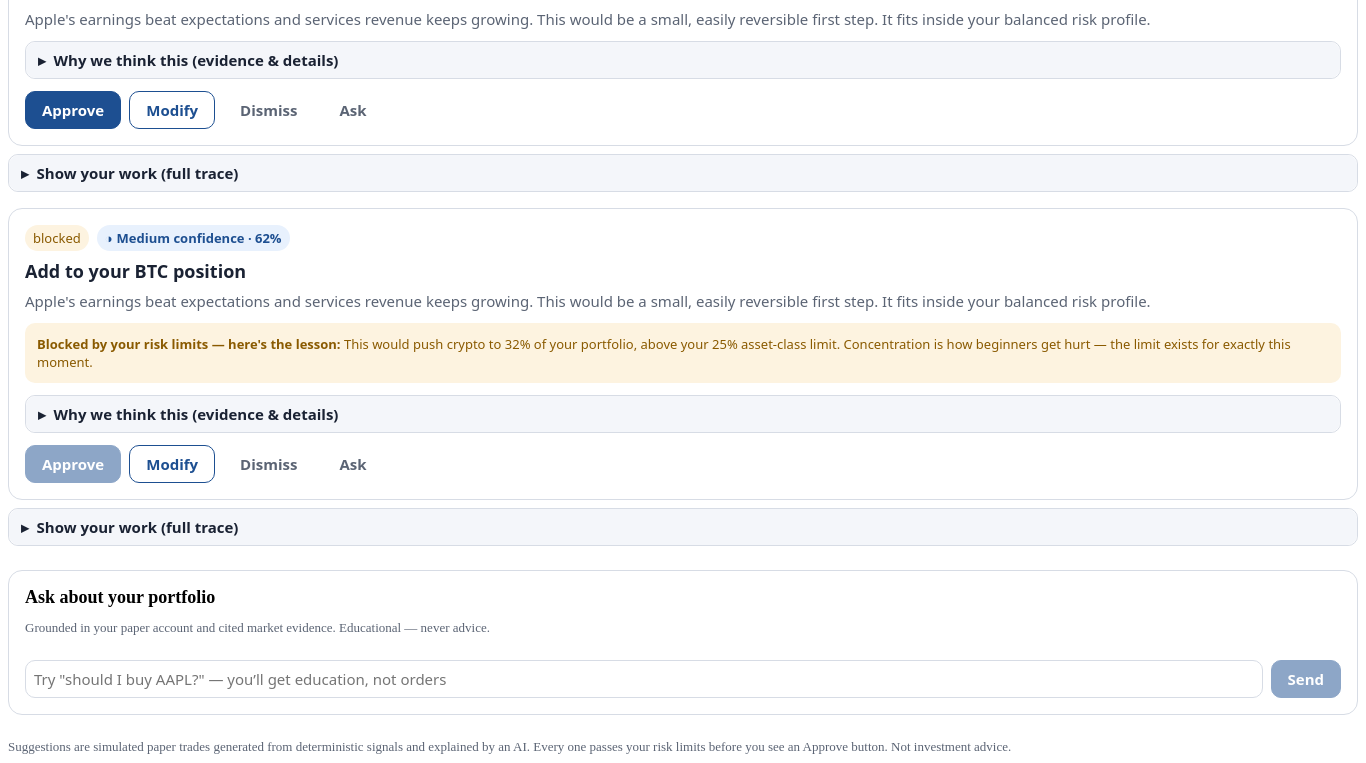
chat streams tokens and shows sources
This screenshot has width=1366, height=763.
(page scrolled)
Type "should I buy AAPL?" into the field named "Chat message" at (644, 679), box x1=25 y1=660 x2=1262 y2=698
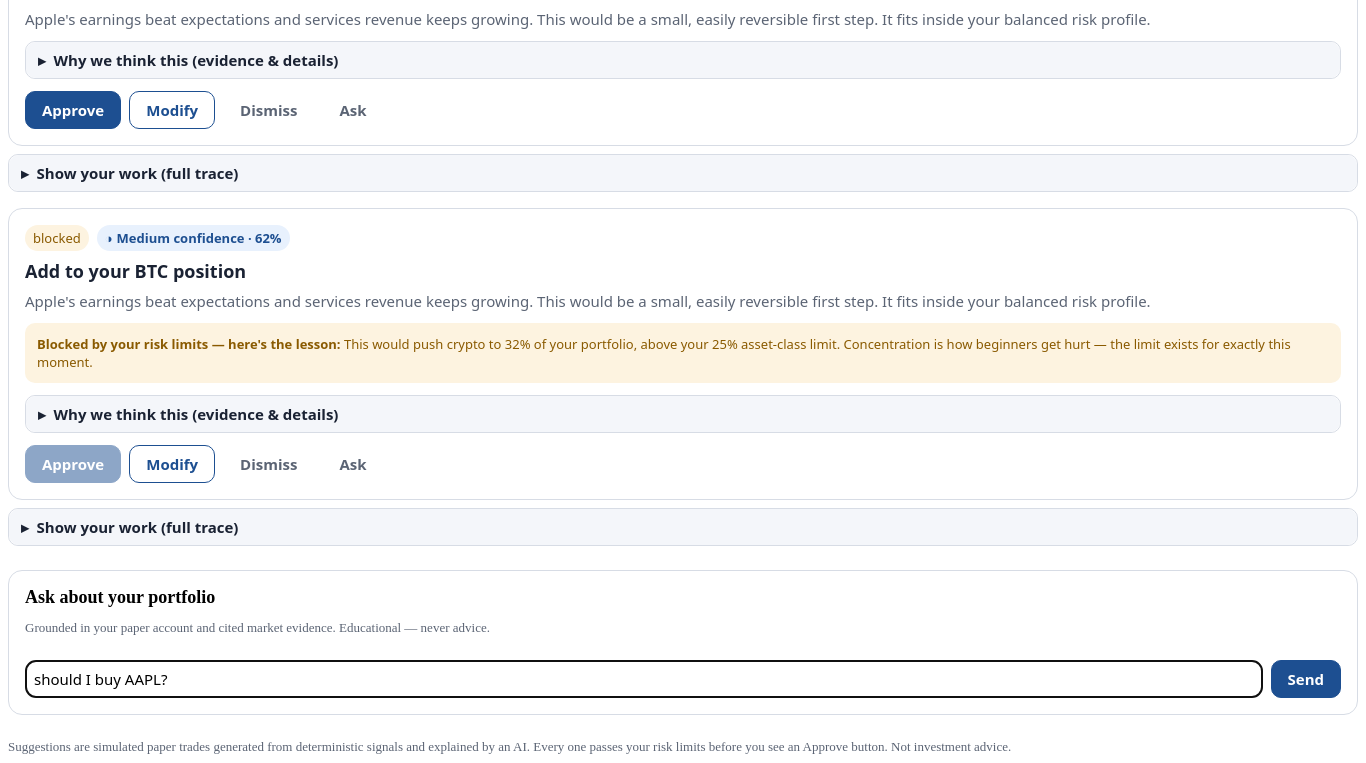
Click the button "Send" at (1306, 679), box x1=1270 y1=660 x2=1341 y2=698
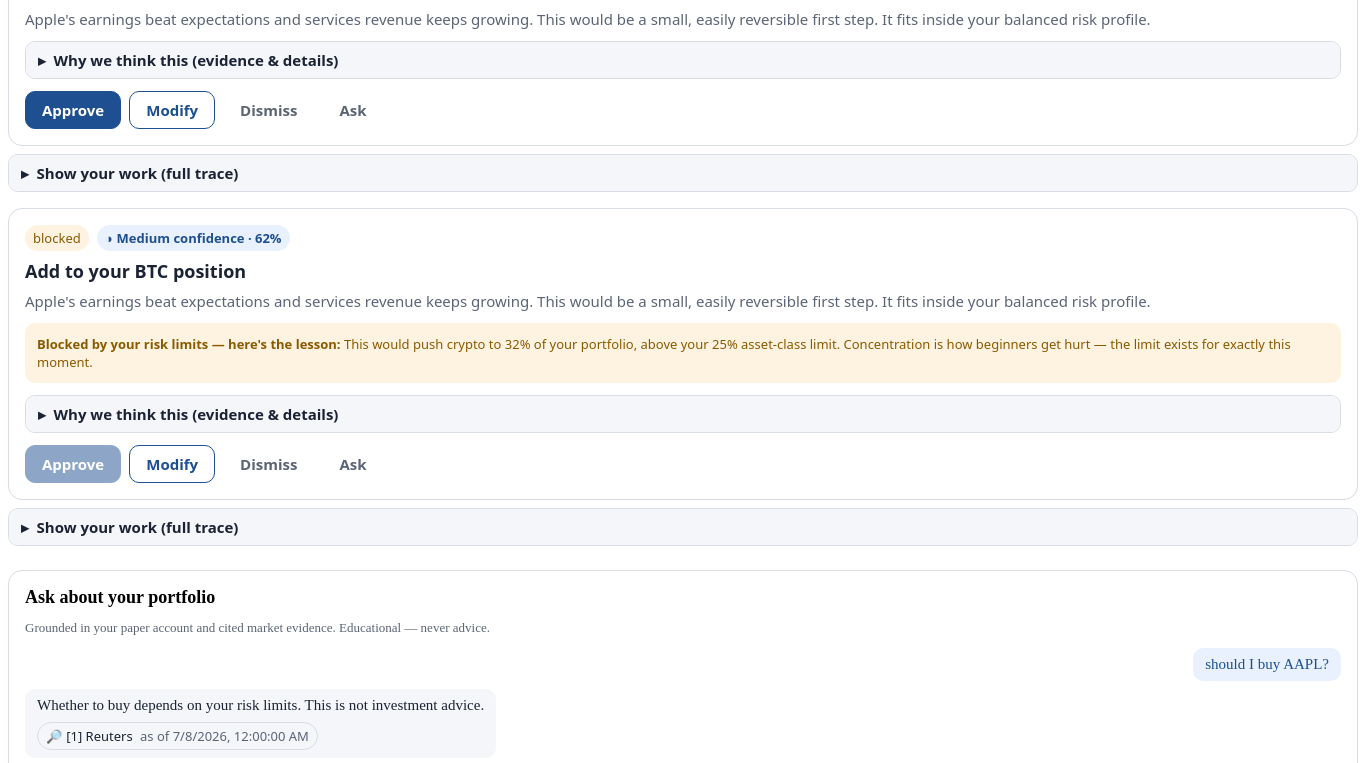
Check: the element named "Chat messages" shows "Whether to buy depends on your risk limits. This is not investment advice.", box x1=37 y1=697 x2=484 y2=713
Check: the element named "Sources" shows "[1] Reuters", box x1=37 y1=722 x2=318 y2=750
